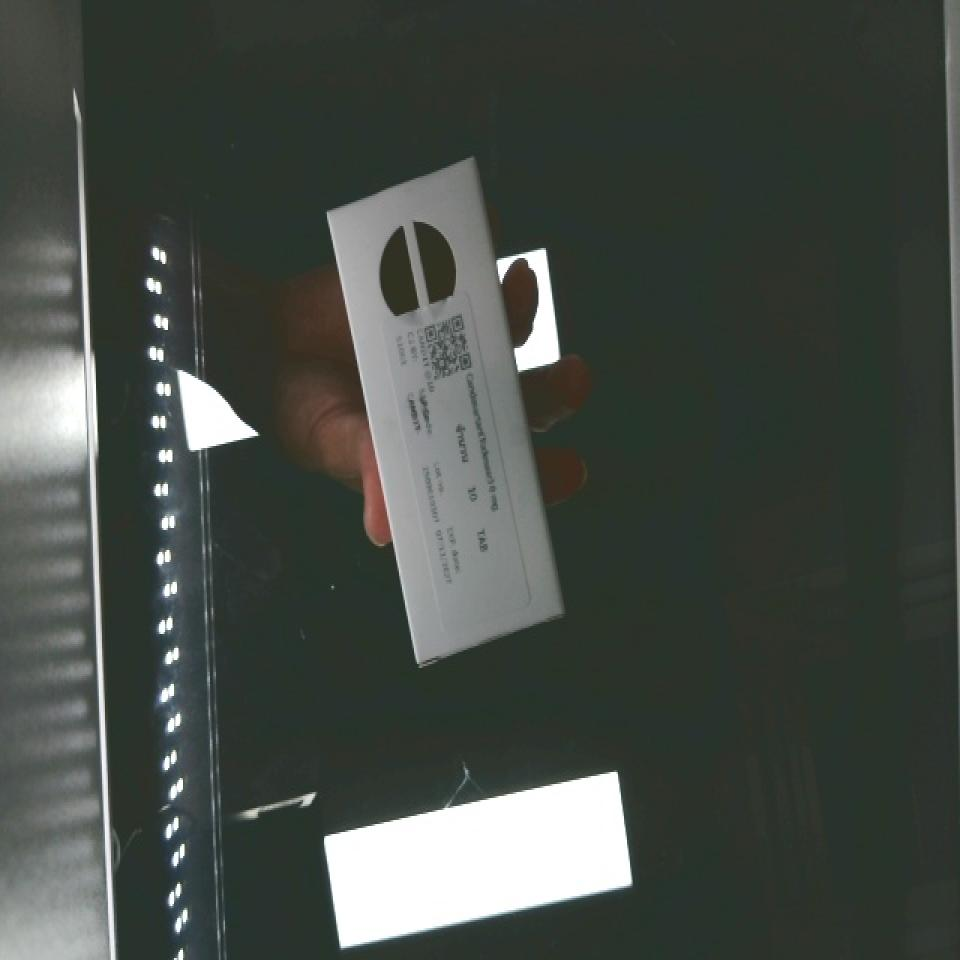medicine_box: (318, 159, 572, 666)
qr_code: (406, 288, 487, 402)
